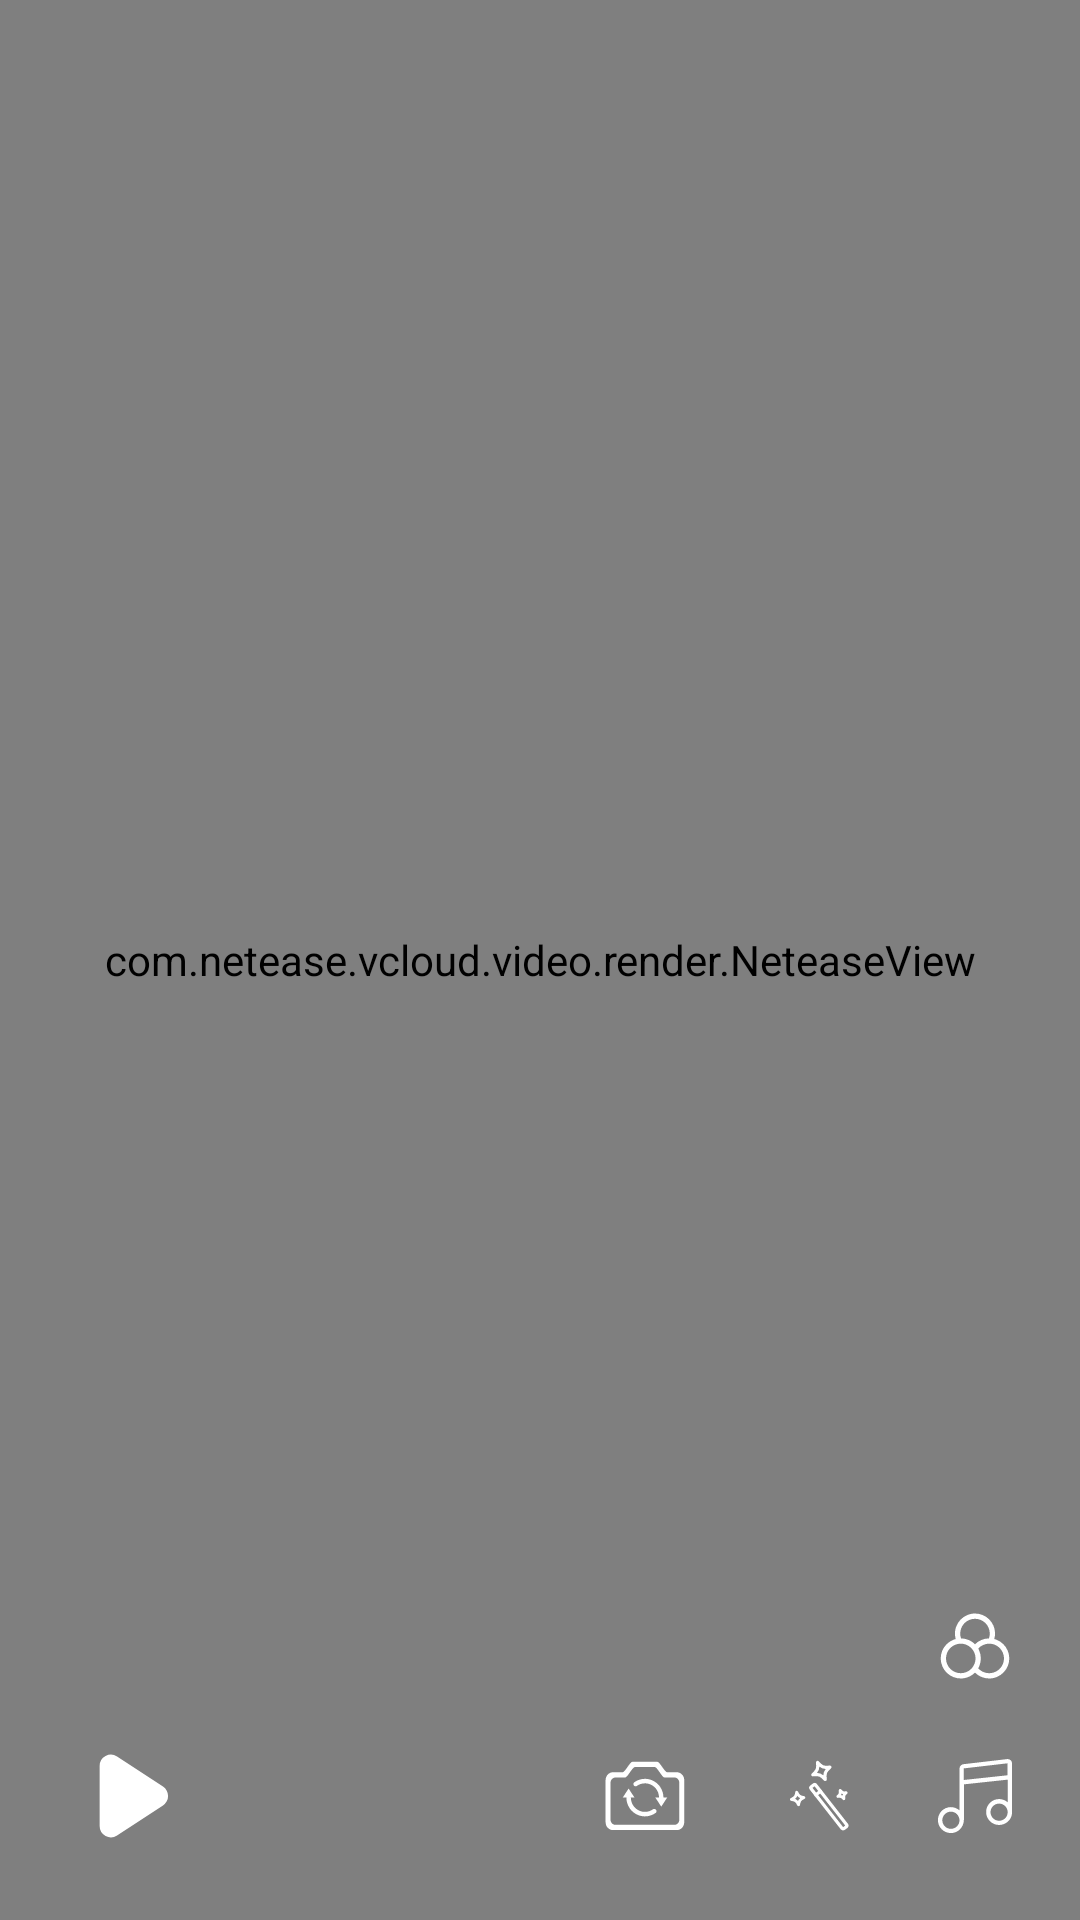

Icons on this 1080*1920 Android screen, each with its box as BBox(x1, y1, x2, y2):
beauty: BBox(790, 1761, 849, 1831)
change camera: BBox(605, 1761, 685, 1830)
filter: BBox(940, 1613, 1010, 1679)
music: BBox(938, 1759, 1012, 1833)
